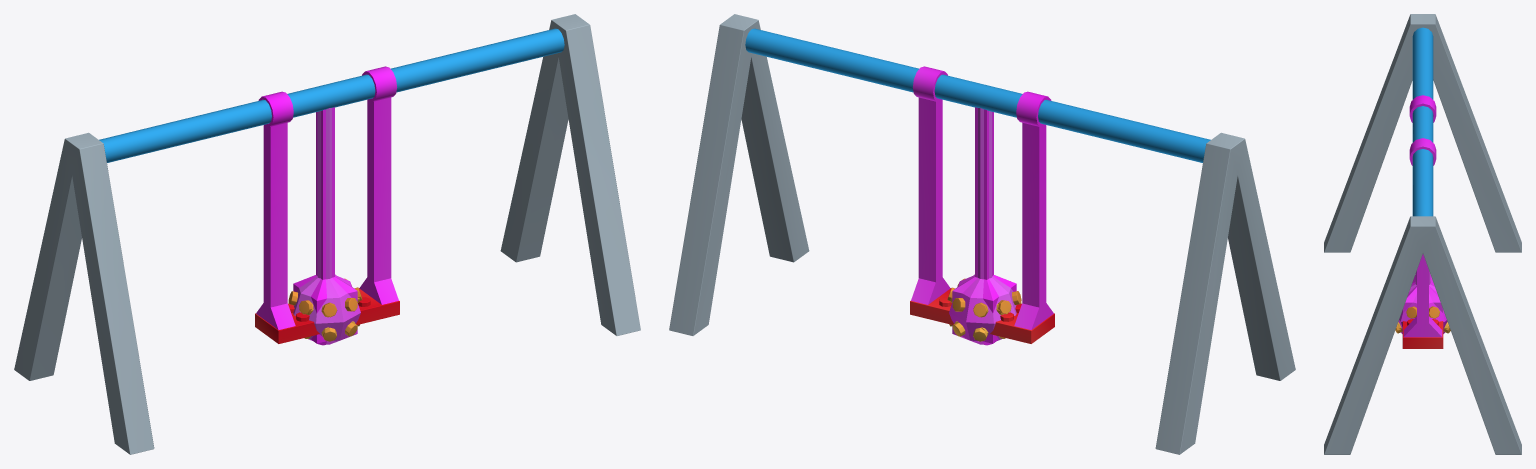
File: engeller_platform.fbx
3 views of the same model, side by side, from view 1: azimuth 30°, elevation 25°; view 2: azimuth 150°, elevation 25°; view 3: azimuth 270°, elevation 25° (orthographic). The views are drawn at different scales.
Parts seen in each view (by area): view 1: engel_salincak, engelplatform_salincak, engelsalincak_3, engelsalincak_2, engelplatform_salincak_alt; view 2: engel_salincak, engelplatform_salincak, engelsalincak_3, engelsalincak_2, engelplatform_salincak_alt; view 3: engel_salincak, engelplatform_salincak, engelsalincak_3, engelplatform_salincak_alt, engelsalincak_2.
Boxes of the visible parts, <box> form: engel_salincak: <box>14,14,640,454</box>; engelplatform_salincak: <box>256,66,398,329</box>; engelsalincak_3: <box>288,108,362,344</box>; engelsalincak_2: <box>293,107,359,345</box>; engelplatform_salincak_alt: <box>255,288,399,343</box>; engel_salincak: <box>669,14,1295,454</box>; engelplatform_salincak: <box>911,66,1053,329</box>; engelsalincak_3: <box>947,108,1021,344</box>; engelsalincak_2: <box>950,107,1016,345</box>; engelplatform_salincak_alt: <box>910,288,1054,343</box>; engel_salincak: <box>1324,14,1521,454</box>; engelplatform_salincak: <box>1403,95,1442,337</box>; engelsalincak_3: <box>1395,271,1450,333</box>; engelplatform_salincak_alt: <box>1402,319,1443,348</box>; engelsalincak_2: <box>1398,282,1447,331</box>.
Bounding box in the file's own units: 11.29 × 5.68 × 4.45.
